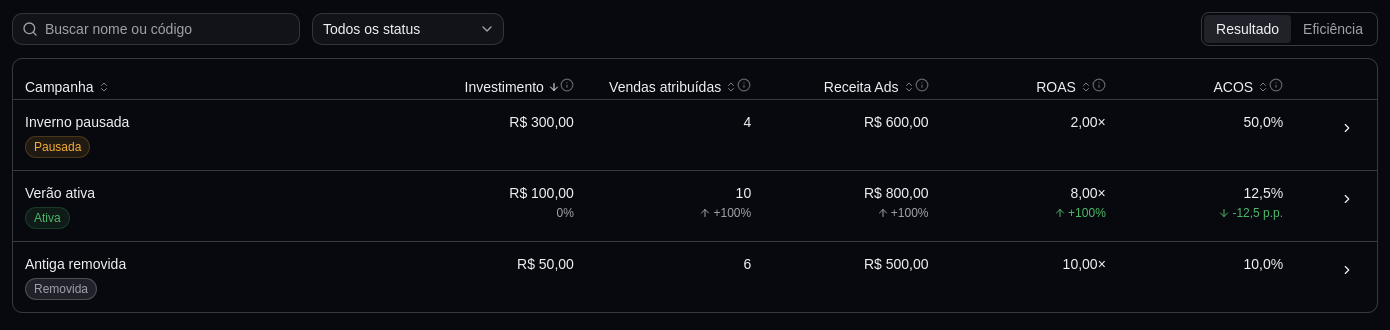
Test: TabelaCampanhas › troca de visão Resultado/Eficiência muda as colunas
The image size is (1390, 330).
Check: the column heading "ROAS" is shown, box x1=940 y1=59 x2=1118 y2=99
Check: the column heading "Cliques" is not shown
Step 1. Click the button "Eficiência" → [1333, 29], box x1=1291 y1=15 x2=1375 y2=43
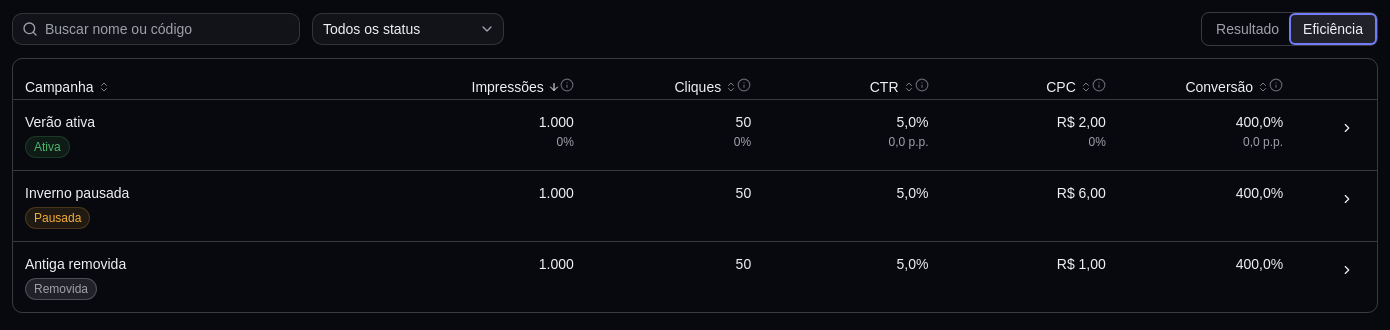
Check: the column heading "Impressões" is shown, box x1=409 y1=59 x2=586 y2=99
Check: the column heading "Cliques" is shown, box x1=586 y1=59 x2=763 y2=99
Check: the column heading "CTR" is shown, box x1=763 y1=59 x2=940 y2=99
